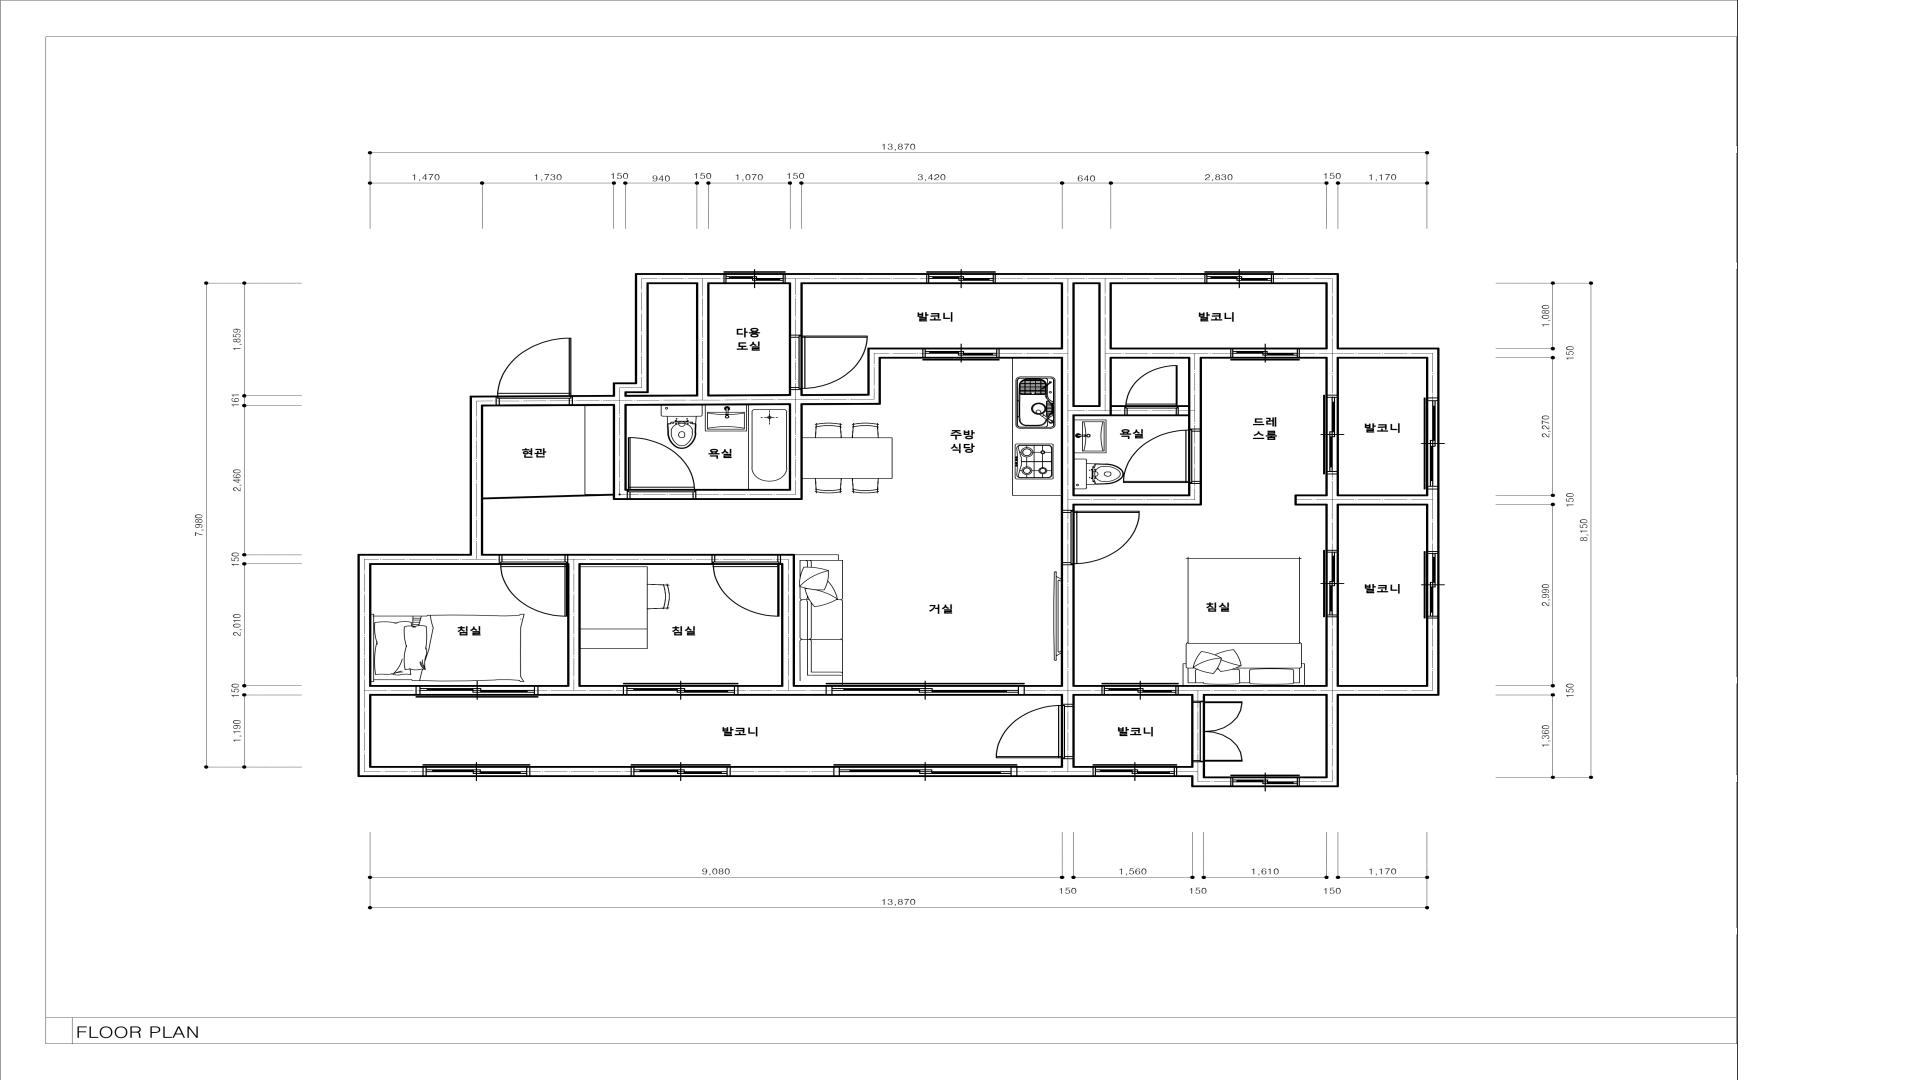door: (496, 338, 571, 400), (1071, 510, 1141, 564), (996, 704, 1065, 758), (712, 562, 779, 617), (628, 436, 694, 492), (500, 562, 566, 617), (799, 336, 868, 389), (1124, 430, 1192, 483), (1200, 700, 1244, 762), (1125, 365, 1178, 409)
wall: (357, 396, 500, 777), (1274, 273, 1440, 397), (571, 273, 724, 406), (1325, 618, 1440, 696), (1300, 696, 1340, 787), (1060, 285, 1075, 510), (626, 394, 868, 406), (996, 273, 1204, 285), (1060, 564, 1075, 704), (781, 554, 795, 684), (566, 554, 580, 684), (1098, 285, 1112, 417), (1179, 684, 1325, 696), (786, 273, 926, 284), (696, 285, 709, 394), (1112, 347, 1230, 359), (580, 554, 712, 564), (1295, 495, 1425, 505), (789, 405, 803, 500), (613, 406, 628, 500), (1178, 762, 1230, 787), (1075, 495, 1188, 505), (732, 766, 833, 777), (530, 766, 630, 777), (1188, 359, 1203, 430), (738, 684, 825, 696), (539, 684, 624, 696), (695, 489, 789, 500), (1425, 489, 1440, 551), (1325, 617, 1338, 684), (1018, 766, 1092, 777), (789, 285, 803, 335), (1000, 348, 1060, 359), (868, 359, 881, 405), (1325, 505, 1338, 550), (868, 348, 922, 359), (372, 684, 415, 696), (1025, 684, 1062, 696), (1075, 684, 1101, 696), (1075, 405, 1098, 417), (1188, 484, 1201, 505), (1325, 475, 1338, 495), (1112, 405, 1125, 417), (1178, 405, 1188, 417), (1060, 758, 1075, 766), (789, 389, 803, 394), (1191, 696, 1205, 700)
window: (825, 683, 1025, 696), (833, 764, 1018, 777), (415, 684, 539, 698), (622, 683, 738, 696), (1424, 397, 1440, 489), (422, 764, 530, 777), (630, 764, 732, 777), (1323, 394, 1338, 475), (1092, 764, 1178, 777), (1323, 550, 1338, 617), (1424, 551, 1440, 618), (1101, 682, 1179, 695), (922, 348, 1000, 361), (1230, 774, 1300, 787), (1230, 348, 1300, 361), (926, 270, 996, 284), (723, 270, 786, 284), (1204, 272, 1274, 284)
